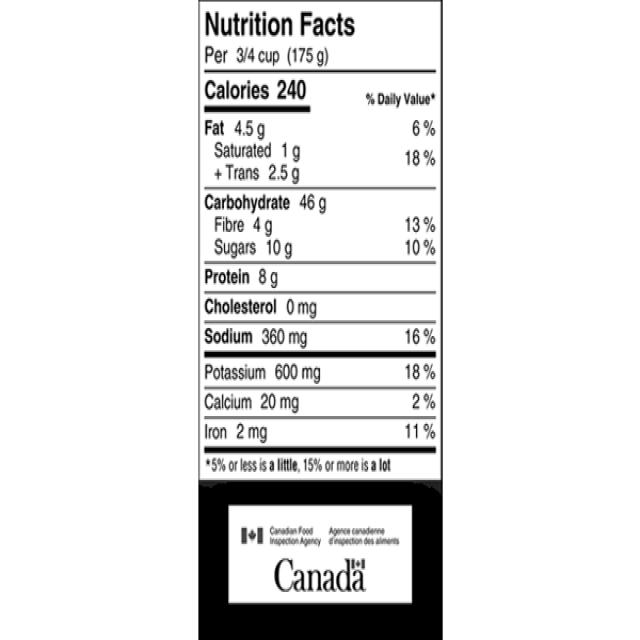Nutrition Label: (189, 0, 450, 490)
